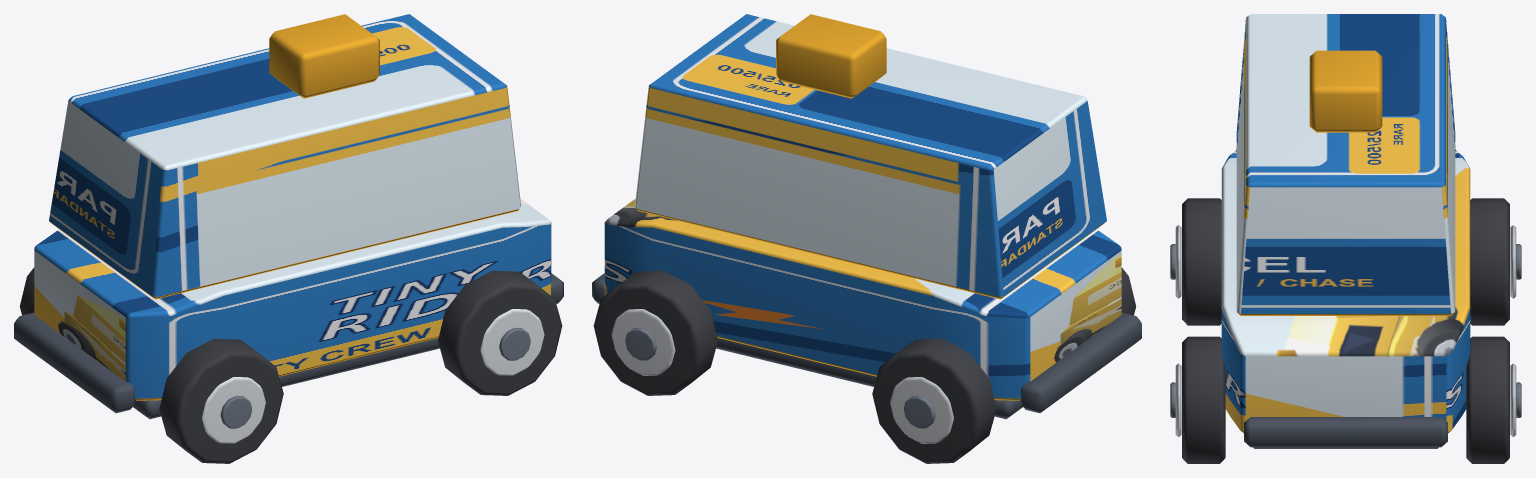
The picture shows the model from 3 angles, left to right: view 1: azimuth 30°, elevation 25°; view 2: azimuth 150°, elevation 25°; view 3: azimuth 270°, elevation 25°; orthographic projection.
Parts seen in each view (by area): view 1: CC-03_cabin, CC-03_connected_shell, Tire, Tire.002, roof sign, front bumper, Rim.002, Rim, underbody, Hub.002, Hub; view 2: CC-03_cabin, CC-03_connected_shell, Tire.001, Tire.003, roof sign, front bumper, Rim.003, Rim.001, underbody, Hub.003, Hub.001; view 3: CC-03_cabin, CC-03_connected_shell, rear bumper, roof sign, Tire.002, Tire.003, Tire, Tire.001, Rim, Rim.001, Rim.002, Rim.003 (+1 smaller).
Part boxes in pixels (x1,y1,x2,y2): CC-03_cabin: (49,14,520,299); CC-03_connected_shell: (34,199,551,400); Tire: (159,338,283,463); Tire.002: (438,270,562,395); roof sign: (269,14,379,98); front bumper: (14,312,135,413); Rim.002: (480,309,544,375); Rim: (202,377,265,443); underbody: (133,338,439,419); Hub.002: (499,328,530,360); Hub: (220,395,251,428); CC-03_cabin: (635,14,1106,299); CC-03_connected_shell: (604,199,1121,400); Tire.001: (872,338,996,463); Tire.003: (593,270,717,395); roof sign: (776,14,886,98); front bumper: (1020,312,1141,413); Rim.003: (611,309,675,375); Rim.001: (890,377,953,443); underbody: (716,338,1022,419); Hub.003: (625,328,656,360); Hub.001: (904,395,935,428); CC-03_cabin: (1236,14,1455,315); CC-03_connected_shell: (1221,150,1470,433); rear bumper: (1244,417,1447,447); roof sign: (1309,50,1382,132); Tire.002: (1182,336,1225,463); Tire.003: (1466,336,1509,463); Tire: (1182,198,1221,325); Tire.001: (1470,198,1509,325); Rim: (1175,225,1181,298); Rim.001: (1510,225,1516,298); Rim.002: (1175,363,1181,437); Rim.003: (1510,363,1516,437).
Bounding box in the file's own units: 318 × 222 × 209.
